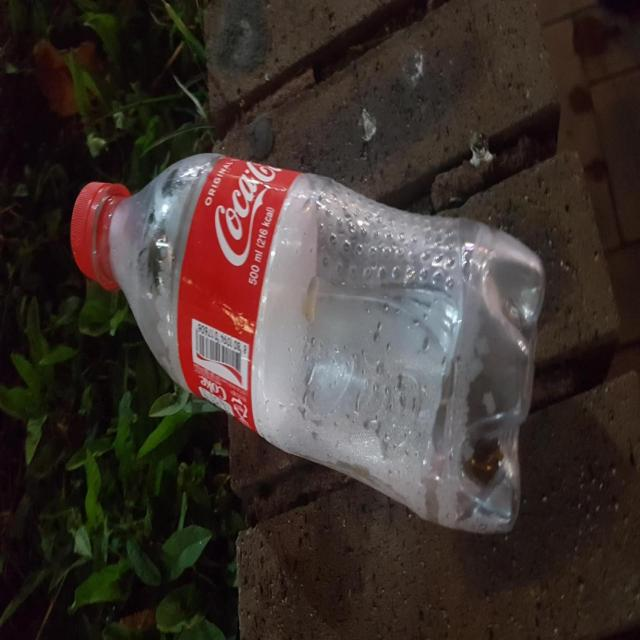plastic: (70, 153, 545, 533)
